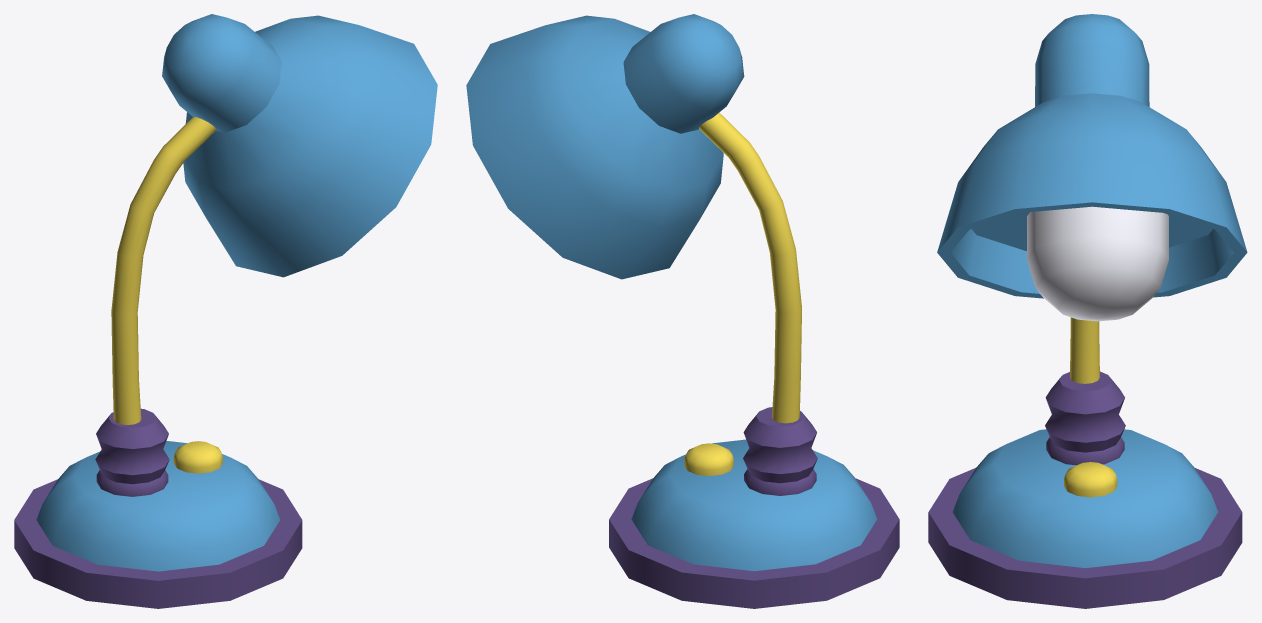
Rendered from smallLamp.fbx.
3 renders of one model, left to right at view 1: azimuth 30°, elevation 25°; view 2: azimuth 150°, elevation 25°; view 3: azimuth 270°, elevation 25°, orthographic. The views are drawn at different scales.
Parts seen in each view (by area): view 1: smallLamp; view 2: smallLamp; view 3: smallLamp.
Boxes of the visible parts, bbox=[...] form: smallLamp: bbox=[14, 14, 437, 608]; smallLamp: bbox=[466, 14, 899, 608]; smallLamp: bbox=[928, 14, 1247, 608].
Size of the model in its own units: 131 by 167 by 86.94.
